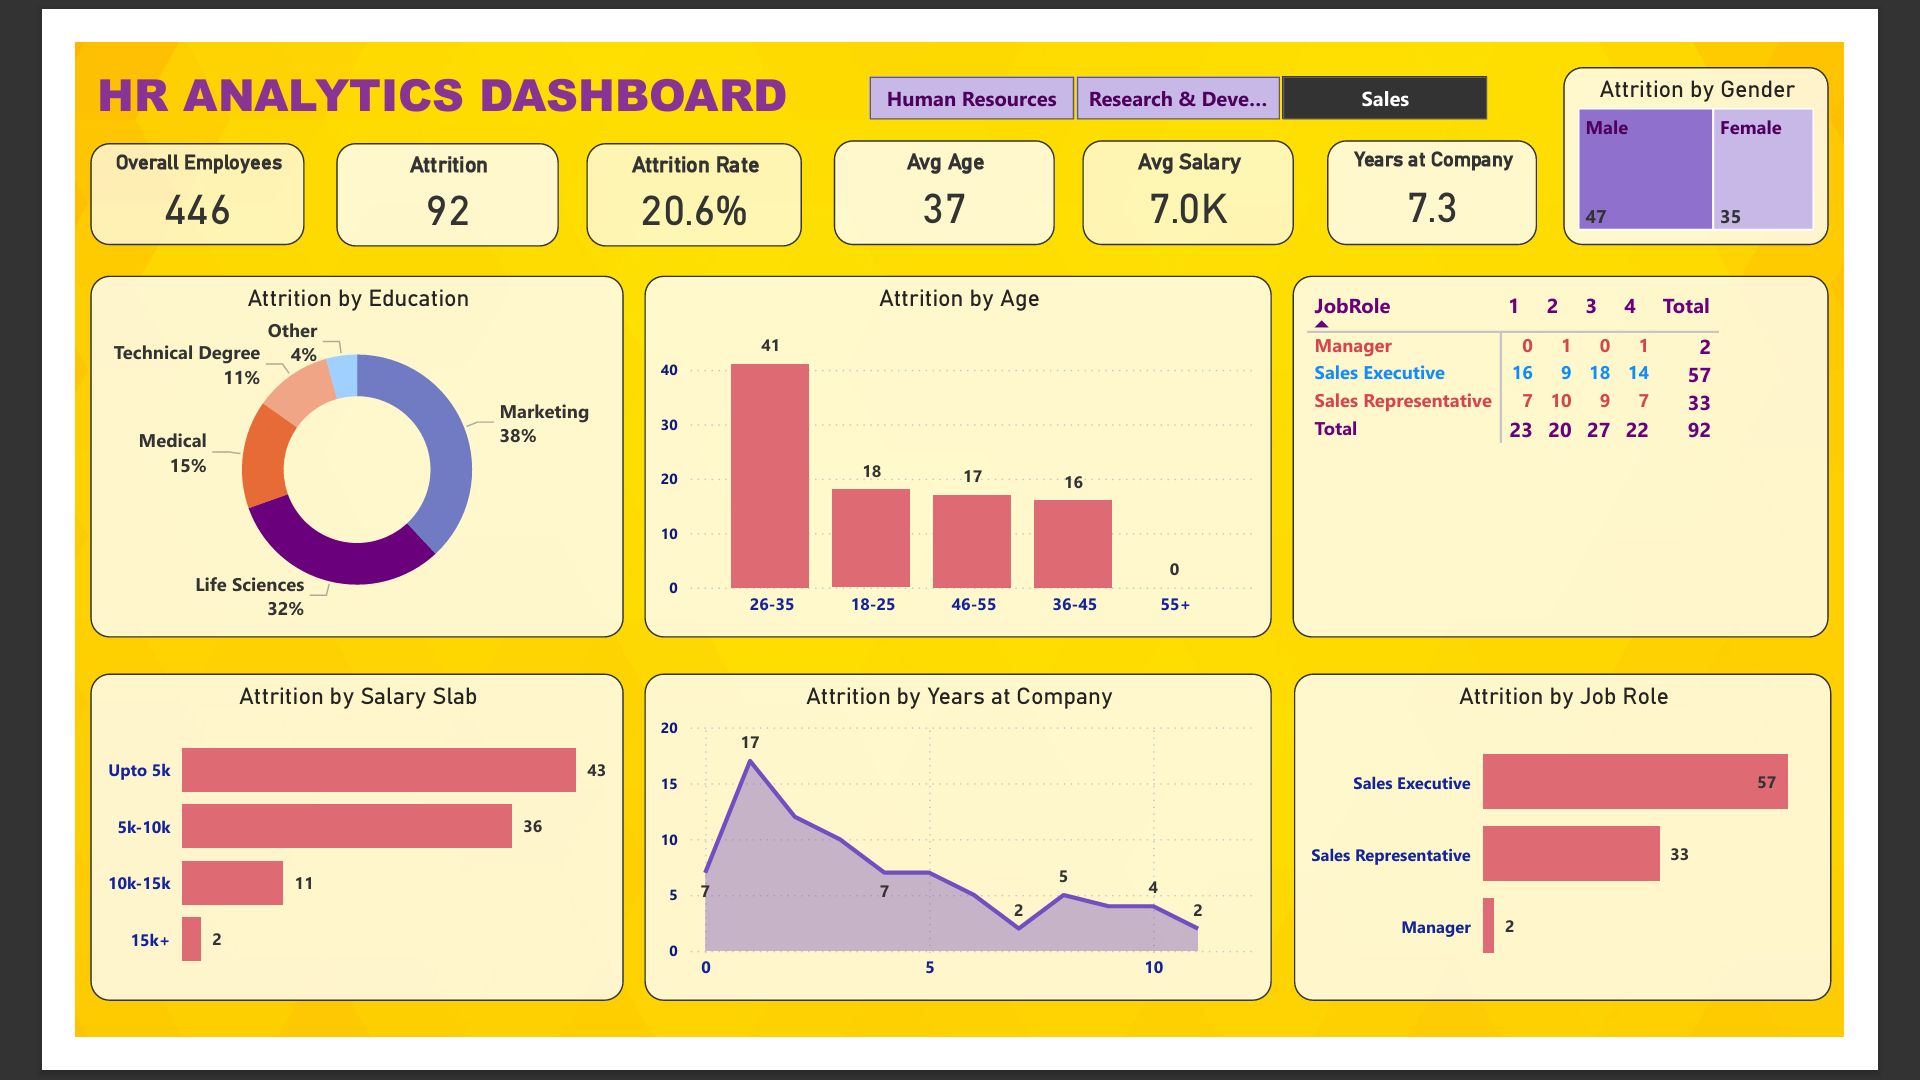

The dashboard page shown, as its layout file describes it:
{"tool":"powerbi","page":{"name":"Page 1","canvas":[1280,720],"ordinal":0},"visuals":[{"type":"card","title":"Overall Employees","fields":{"Values":["CountNonNull(HR_Analytics.EmpID)"]},"box":[11,72.7,155.1,74.1],"z":0},{"type":"card","title":"Attrition","fields":{"Values":["Sum(HR_Analytics.AttritionCount)"]},"box":[189.4,72.7,160.5,75.5],"z":1000},{"type":"card","title":"Attrition Rate","fields":{"Values":["HR_Analytics.AttritionRate"]},"box":[370.5,72.7,155.1,75.5],"z":2000},{"type":"card","title":"Avg Age","fields":{"Values":["Avg(HR_Analytics.Age)"]},"box":[548.9,71.4,160.5,75.5],"z":3000},{"type":"card","title":"Avg Salary","fields":{"Values":["Avg(HR_Analytics.MonthlyIncome)"]},"box":[728.6,71.4,153.7,75.5],"z":4000},{"type":"card","title":"Years at Company","fields":{"Values":["Avg(HR_Analytics.YearsAtCompany)"]},"box":[905.7,71.4,152.3,75.5],"z":5000},{"type":"donutChart","title":"Attrition by Education","fields":{"Category":["HR_Analytics.EducationField"],"Y":["Sum(HR_Analytics.AttritionCount)"]},"box":[11,168.8,385.6,262.1],"z":6000},{"type":"columnChart","title":"Attrition by Age","fields":{"Category":["HR_Analytics.AgeGroup"],"Y":["Sum(HR_Analytics.AttritionCount)"]},"box":[411.7,168.8,454.2,262.1],"z":7000},{"type":"pivotTable","fields":{"Rows":["HR_Analytics.JobRole"],"Columns":["HR_Analytics.JobSatisfaction"],"Values":["Sum(HR_Analytics.AttritionCount)"]},"box":[881,168.8,388.3,262.1],"z":8000},{"type":"barChart","title":"Attrition by Job Role","fields":{"Category":["HR_Analytics.JobRole"],"Y":["Sum(HR_Analytics.AttritionCount)"]},"box":[882.3,456.9,388.3,237.4],"z":9000},{"type":"barChart","title":"Attrition by Salary Slab","fields":{"Category":["HR_Analytics.SalarySlab"],"Y":["Sum(HR_Analytics.AttritionCount)"]},"box":[11,456.9,385.6,237.4],"z":10000},{"type":"areaChart","title":"Attrition by Years at Company","fields":{"Category":["HR_Analytics.YearsAtCompany"],"Y":["Sum(HR_Analytics.AttritionCount)"]},"box":[411.7,456.9,454.2,237.4],"z":11000},{"type":"treemap","title":"Attrition by Gender","fields":{"Group":["HR_Analytics.Gender"],"Values":["Sum(HR_Analytics.AttritionCount)"]},"box":[1077.2,17.8,192.1,129],"z":12000},{"type":"slicer","fields":{"Values":["HR_Analytics.Department"]},"box":[548.9,17.8,496.7,45.3],"z":13000},{"type":"textbox","box":[11,9.6,551.6,61.7],"z":14000}]}

Visuals, with their boxes in screenshot pixels (x1, y1, x2, y2), scaled from the page's 1280x720 canvas onto the 1920x1080 screenshot:
"Overall Employees" card: left=16, top=109, right=249, bottom=220
"Attrition" card: left=284, top=109, right=525, bottom=222
"Attrition Rate" card: left=556, top=109, right=788, bottom=222
"Avg Age" card: left=823, top=107, right=1064, bottom=220
"Avg Salary" card: left=1093, top=107, right=1323, bottom=220
"Years at Company" card: left=1359, top=107, right=1587, bottom=220
"Attrition by Education" donutChart: left=16, top=253, right=595, bottom=646
"Attrition by Age" columnChart: left=618, top=253, right=1299, bottom=646
pivotTable - HR_Analytics.JobRole x HR_Analytics.JobSatisfaction: left=1322, top=253, right=1904, bottom=646
"Attrition by Job Role" barChart: left=1323, top=685, right=1906, bottom=1041
"Attrition by Salary Slab" barChart: left=16, top=685, right=595, bottom=1041
"Attrition by Years at Company" areaChart: left=618, top=685, right=1299, bottom=1041
"Attrition by Gender" treemap: left=1616, top=27, right=1904, bottom=220
slicer - HR_Analytics.Department: left=823, top=27, right=1568, bottom=95
textbox: left=16, top=14, right=844, bottom=107
